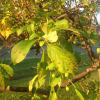Apple Scab Leaf: (46, 42, 82, 76), (10, 36, 37, 69), (66, 26, 96, 47), (50, 18, 74, 34), (0, 63, 19, 81), (0, 18, 13, 40), (28, 71, 40, 94), (74, 85, 91, 99), (0, 75, 12, 93), (12, 40, 13, 41)
